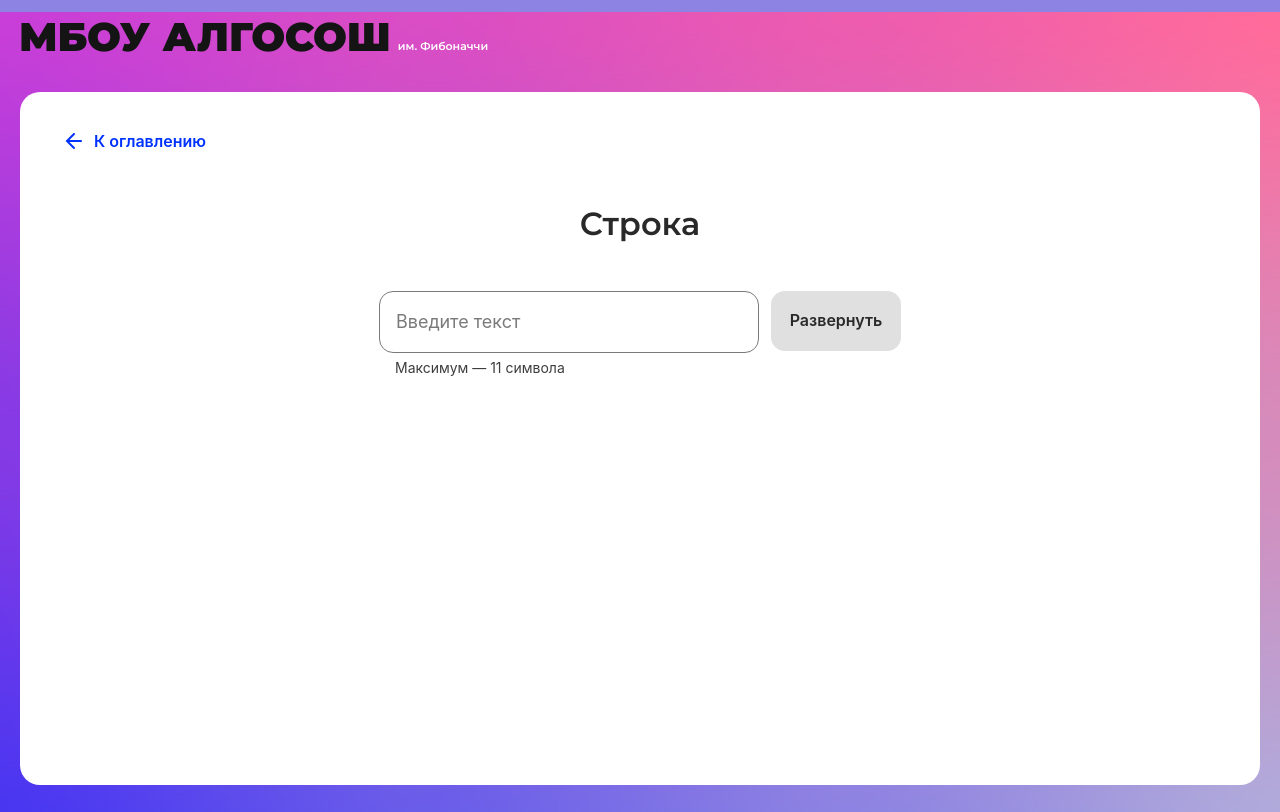
Test: Проверка строки › Кнопка разблокирована (Инпут заполнен)
The image size is (1280, 812).
Type "test" into the field with placeholder "Введите текст" at (569, 322), box [379, 291, 759, 353]
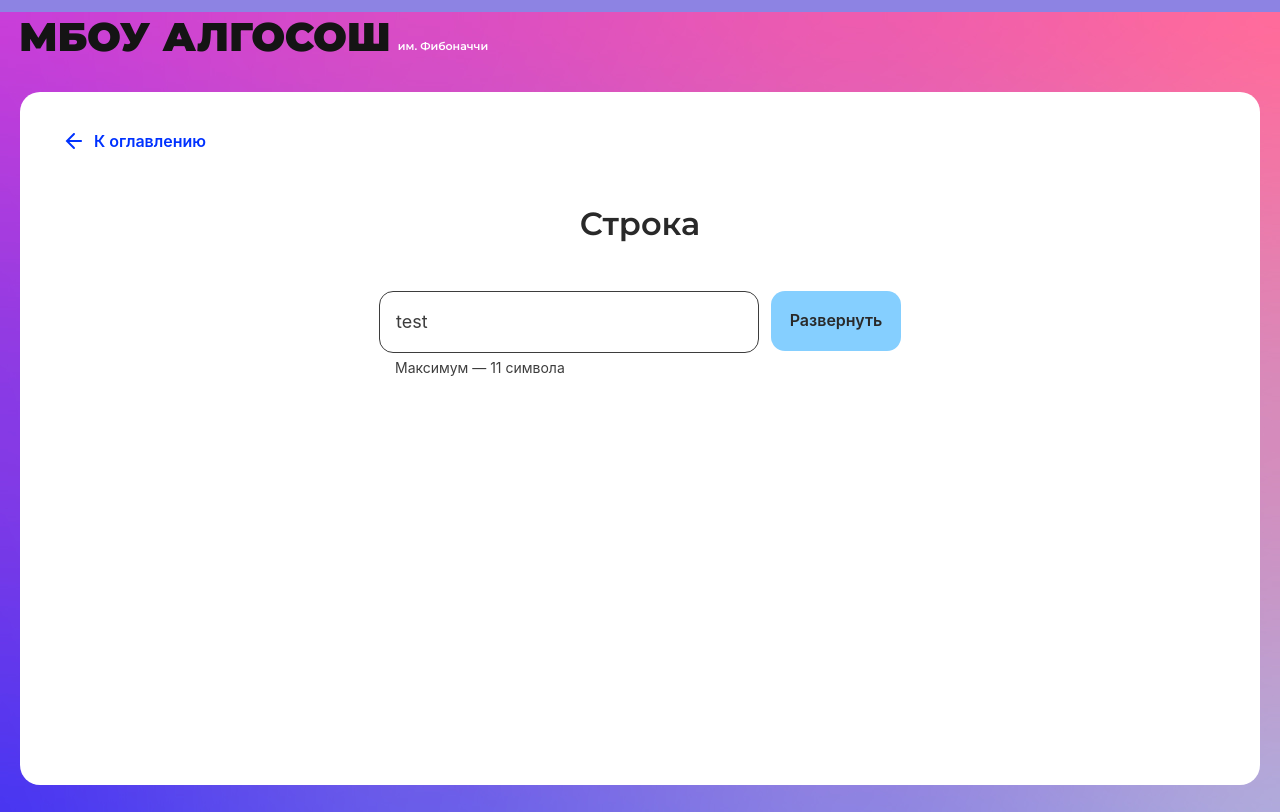
Expected: the button "Развернуть" is enabled, [771, 291, 901, 351]
